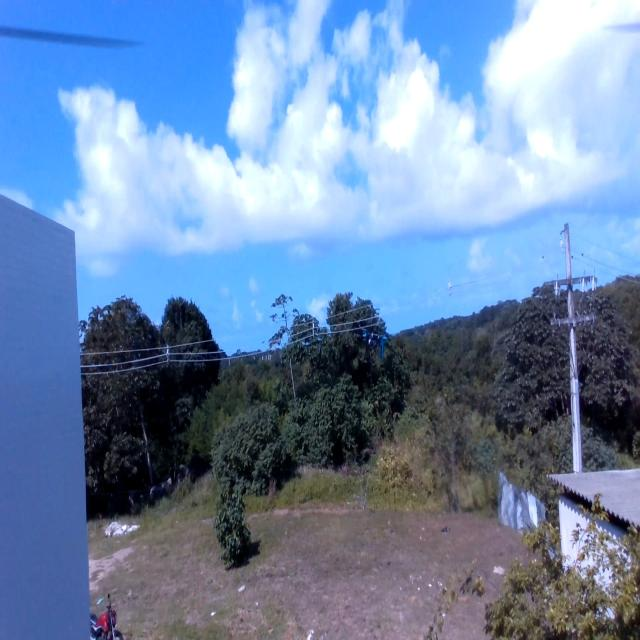-uav-: (350, 307, 399, 374)
